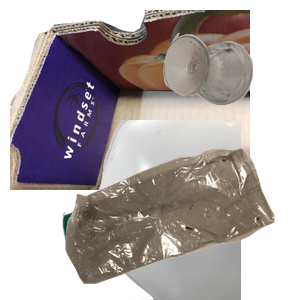cardboard: (10, 10, 250, 190)
glass: (161, 30, 300, 128)
plastic: (60, 120, 300, 300)
trash: (63, 145, 300, 300)
